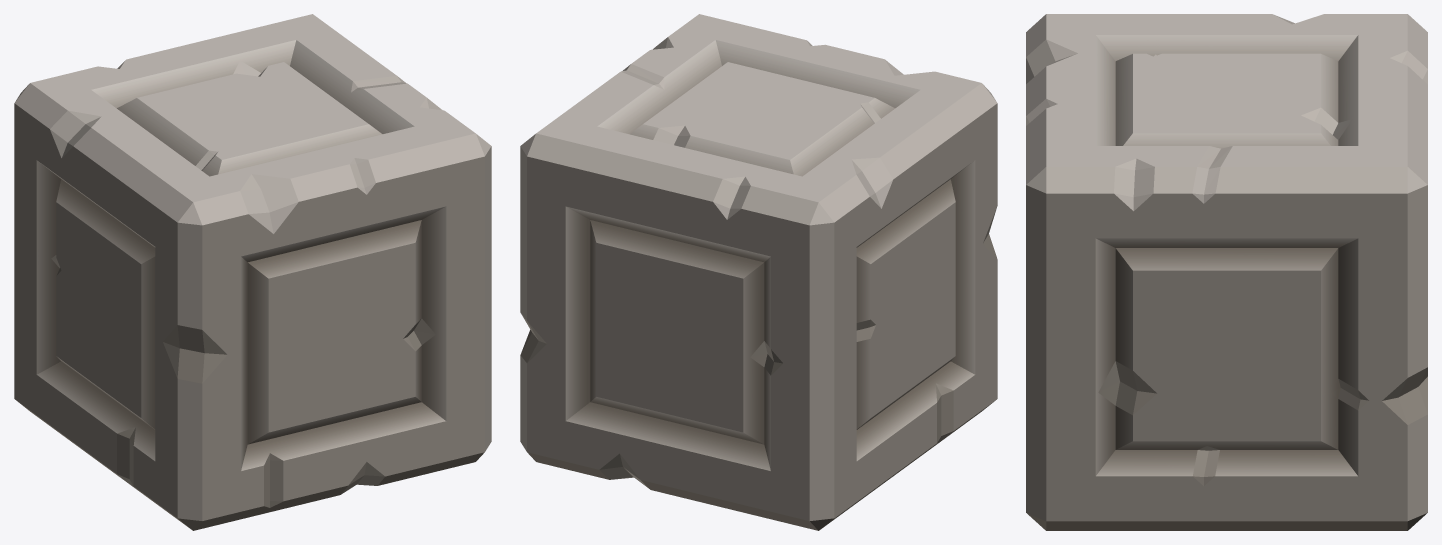
Rendered from m_deco_pillarSquareB_old.FBX.
The picture shows the model from 3 angles, left to right: view 1: azimuth 30°, elevation 25°; view 2: azimuth 150°, elevation 25°; view 3: azimuth 270°, elevation 25°; orthographic projection. The views are drawn at different scales.
Visible parts, largest first — view 1: m_deco_pillarSquareB_old; view 2: m_deco_pillarSquareB_old; view 3: m_deco_pillarSquareB_old.
Boxes of the visible parts, x1=… form: m_deco_pillarSquareB_old: x1=14, y1=14, x2=491, y2=530; m_deco_pillarSquareB_old: x1=520, y1=14, x2=997, y2=530; m_deco_pillarSquareB_old: x1=1026, y1=14, x2=1427, y2=530.
Size of the model in its own units: 2 by 2 by 2.
